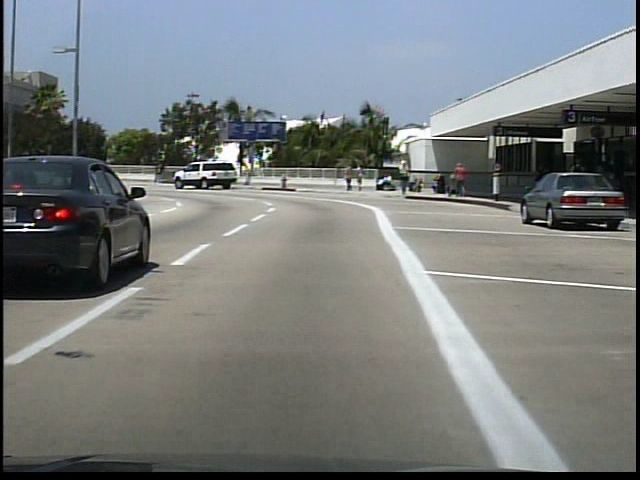person: (567, 152, 589, 209), (455, 160, 471, 196), (398, 158, 412, 199), (345, 163, 356, 194), (357, 162, 367, 194)
